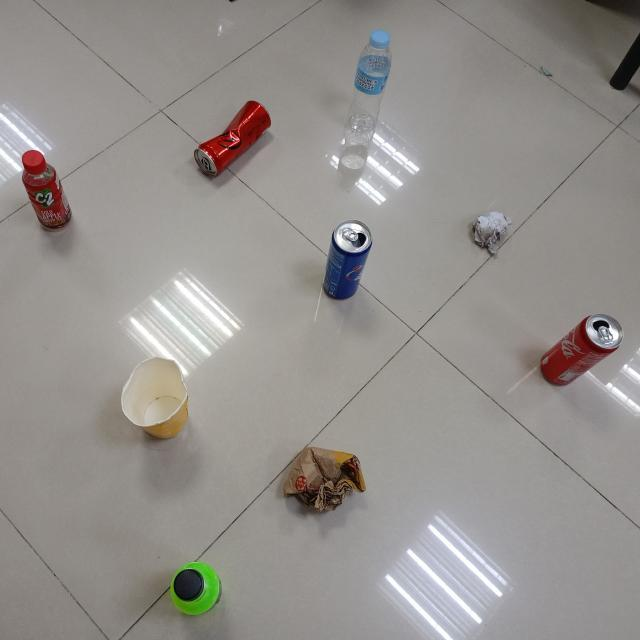recyclable waste: (532, 307, 628, 390), (187, 95, 277, 182), (114, 349, 194, 444), (278, 440, 372, 518), (342, 26, 396, 134), (15, 144, 76, 236), (318, 213, 375, 304), (164, 556, 226, 620), (466, 207, 514, 261)
